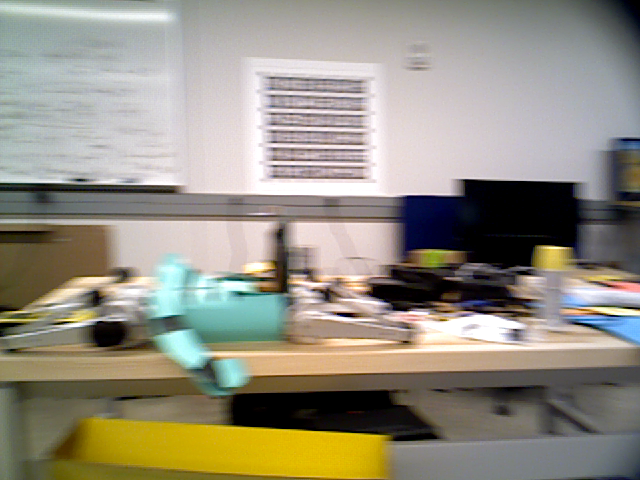painting4: (247, 65, 381, 194)
